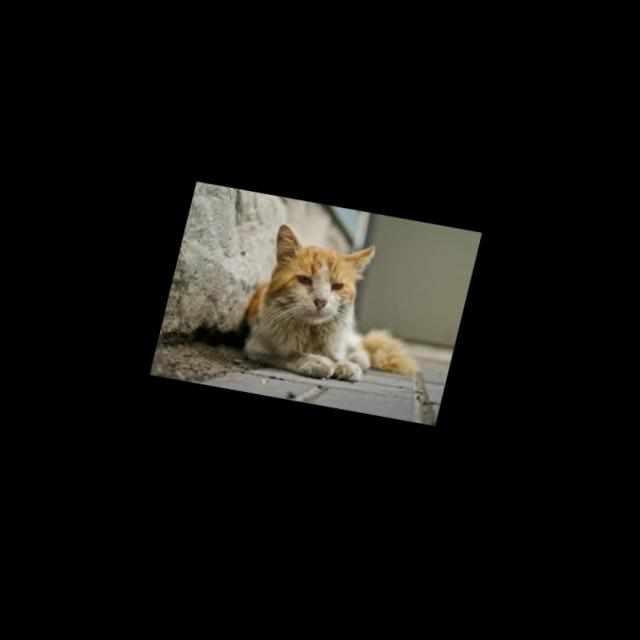animals: (223, 203, 450, 409)
